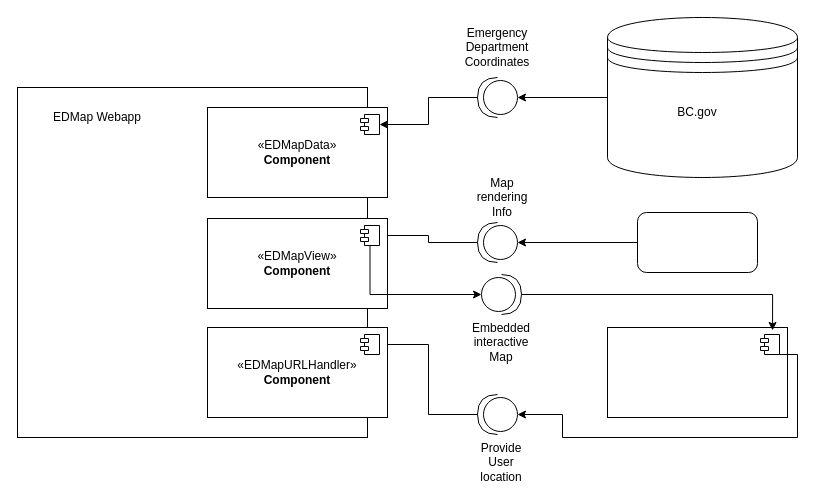
This 823x501 diagram has some shape labels left out. Each missing label, with the centre of its shape:
Leaflet Map Library: the point at 697,242
«Mr ED User Application» Component: the point at 697,372
